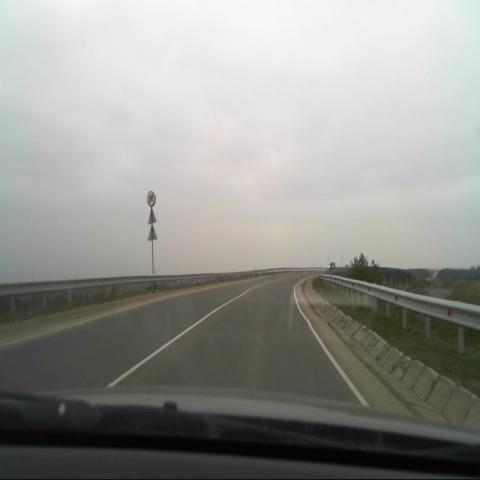3_25: (147, 191, 155, 208)
